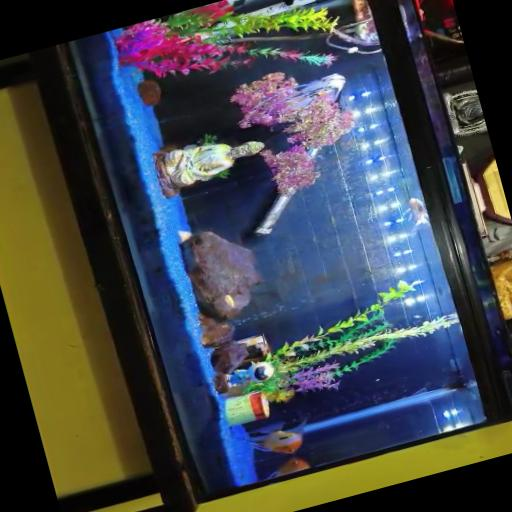Fish: (237, 420, 305, 453), (266, 457, 309, 478), (403, 197, 427, 234), (177, 230, 190, 242), (224, 294, 233, 306)
